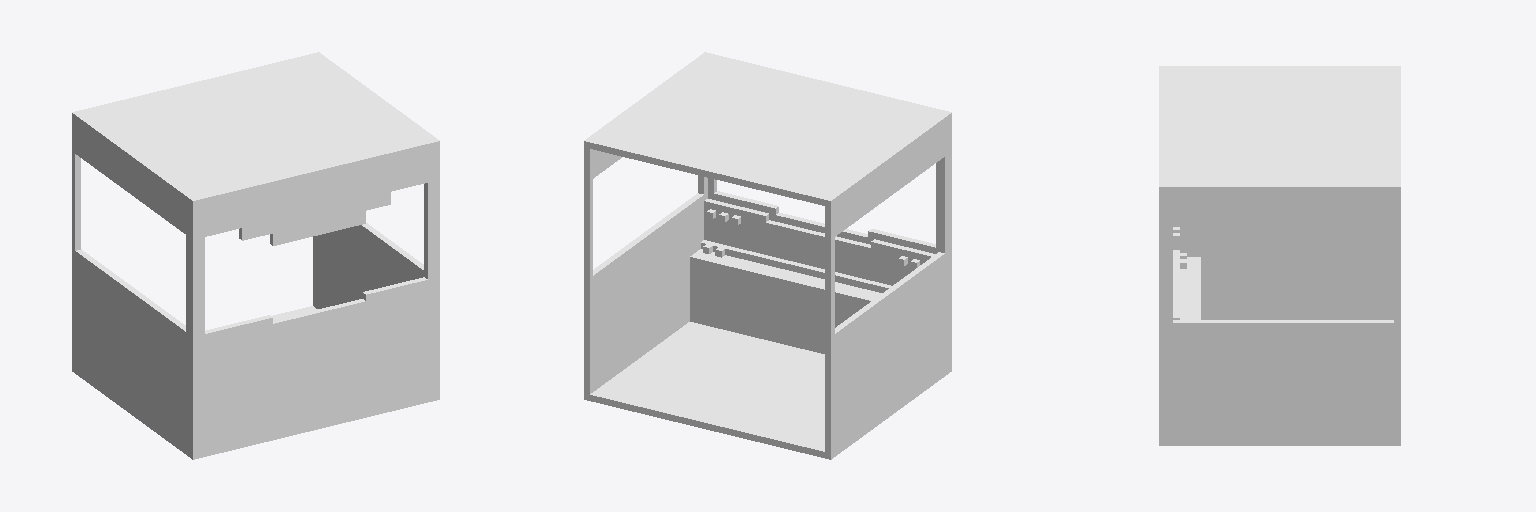
Rendered from cockpit.obj.
3 renders of one model, left to right at view 1: azimuth 30°, elevation 25°; view 2: azimuth 150°, elevation 25°; view 3: azimuth 270°, elevation 25°, orthographic.
Parts seen in each view (by area): view 1: cockpit; view 2: cockpit; view 3: cockpit.
Boxes of the visible parts, box(x1,y1,x2,y2) form: cockpit: box(72, 52, 439, 459); cockpit: box(584, 52, 951, 459); cockpit: box(1159, 66, 1400, 445).
Size of the model in its own units: 40 by 40 by 34.